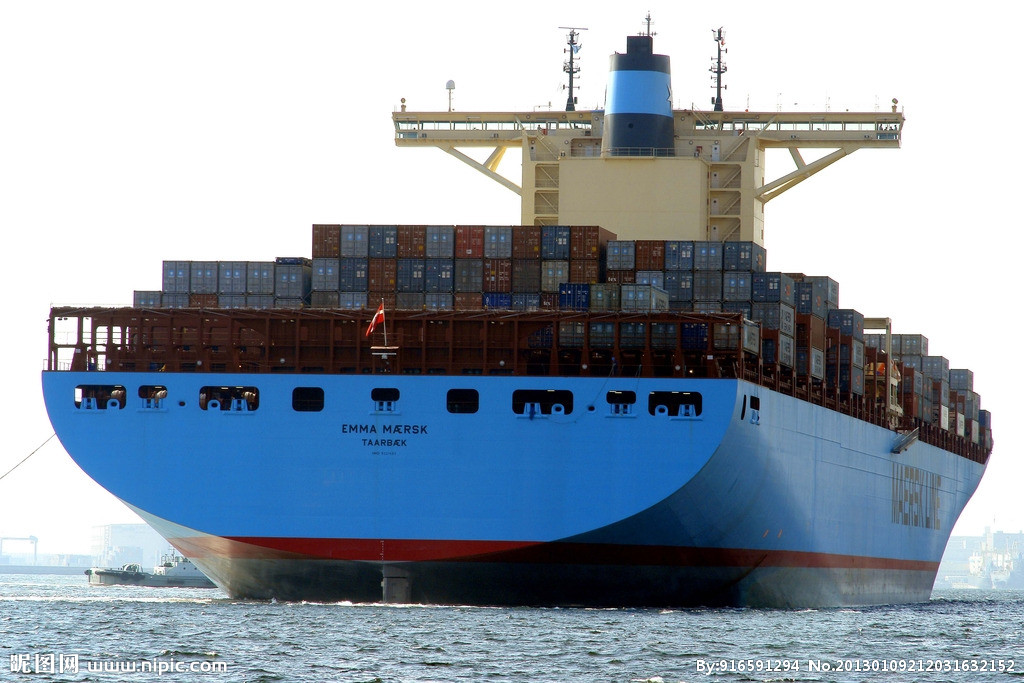Cargoship: (26, 25, 992, 639)
otherboat: (82, 547, 211, 597)
